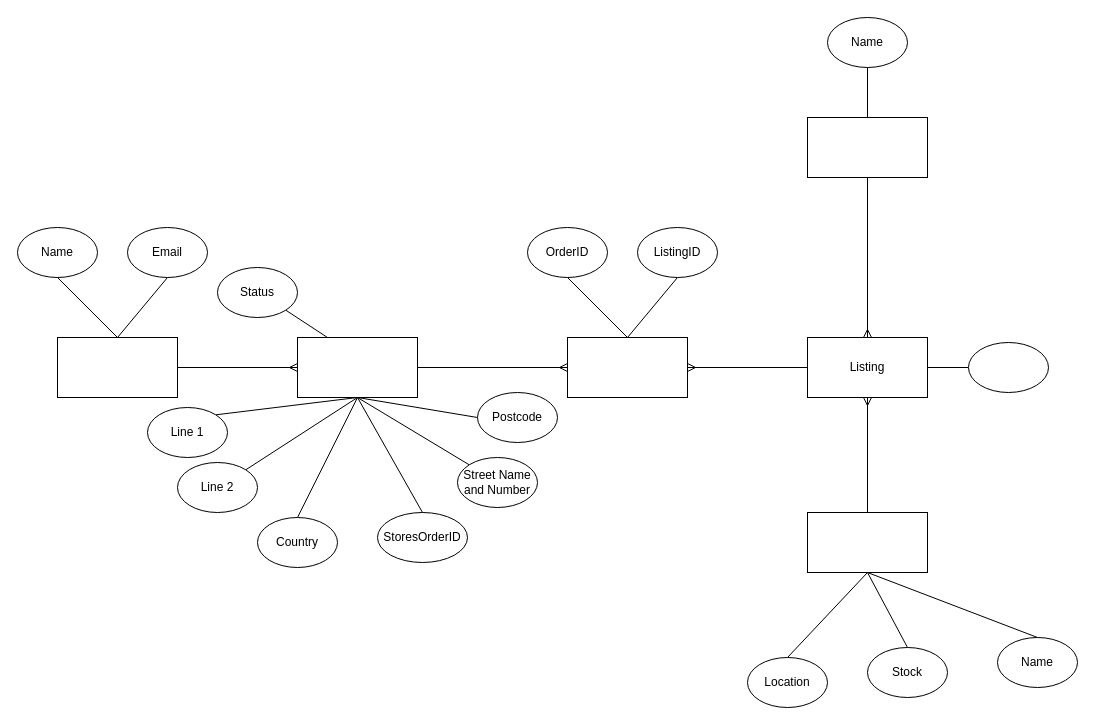
The diagram is 1095 pixels wide and 725 high, and some of its shapes have lost their labels. The box of each missing label's shape, as (x1, y1, x2, y2) in pixels:
Customer: (56, 336, 178, 398)
Item: (806, 512, 928, 572)
OnlineStore: (806, 116, 928, 178)
Order: (296, 336, 418, 398)
OrderListingLink: (566, 336, 688, 398)
Price: (968, 342, 1048, 392)
